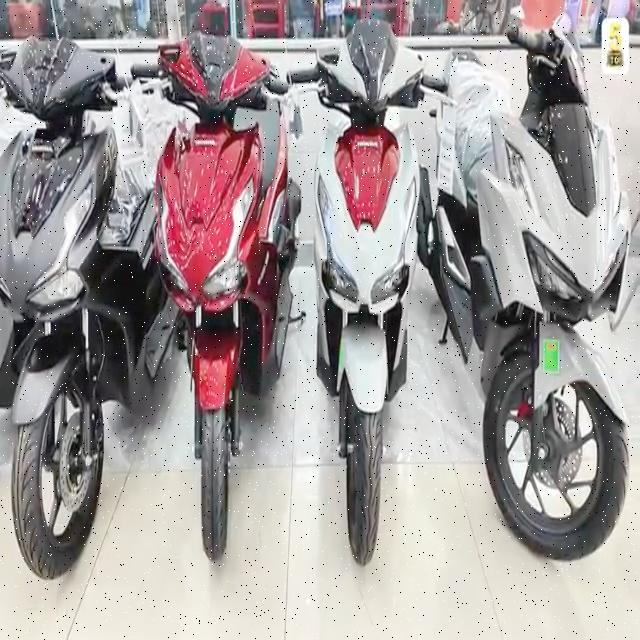motorcycle: (414, 0, 634, 591), (134, 0, 297, 574), (0, 0, 140, 605), (308, 11, 425, 574)
